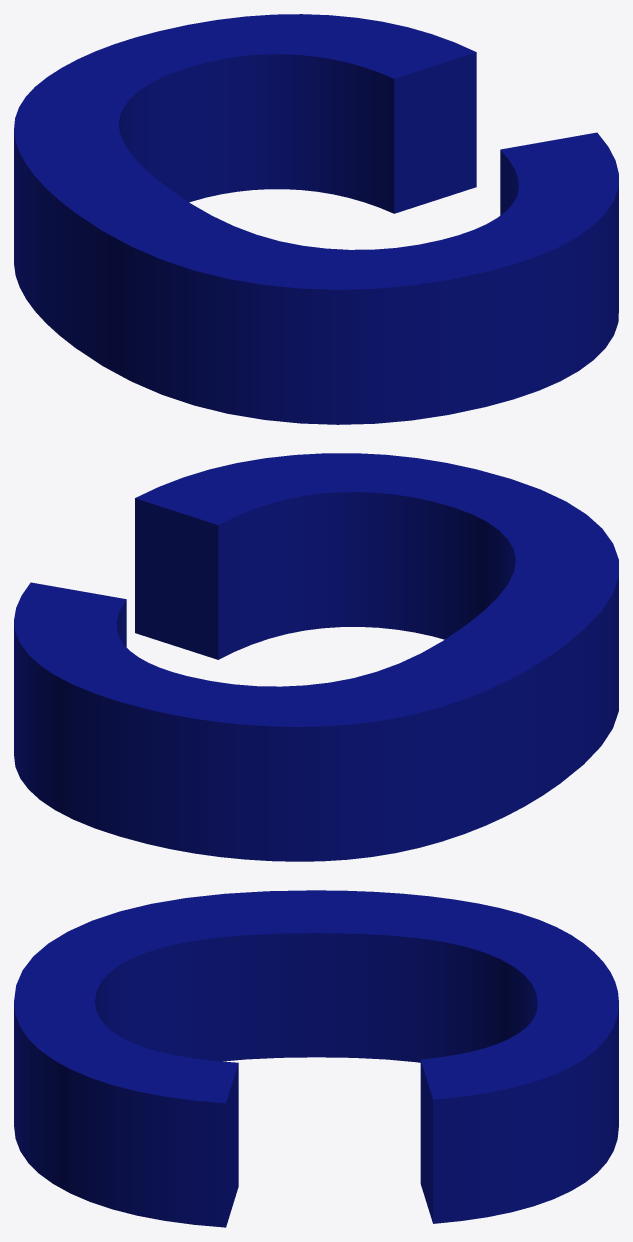
3 views of the same model, one above another, from view 1: azimuth 30°, elevation 25°; view 2: azimuth 150°, elevation 25°; view 3: azimuth 270°, elevation 25° (orthographic). The views are drawn at different scales.
Parts seen in each view (by area): view 1: TextPlus066; view 2: TextPlus066; view 3: TextPlus066.
Boxes of the visible parts, x1,y1,x2,y2 form: TextPlus066: (14, 14, 618, 424); TextPlus066: (14, 453, 618, 861); TextPlus066: (14, 890, 618, 1227).
Size of the model in its own units: 16.16 by 4.4 by 19.4.
